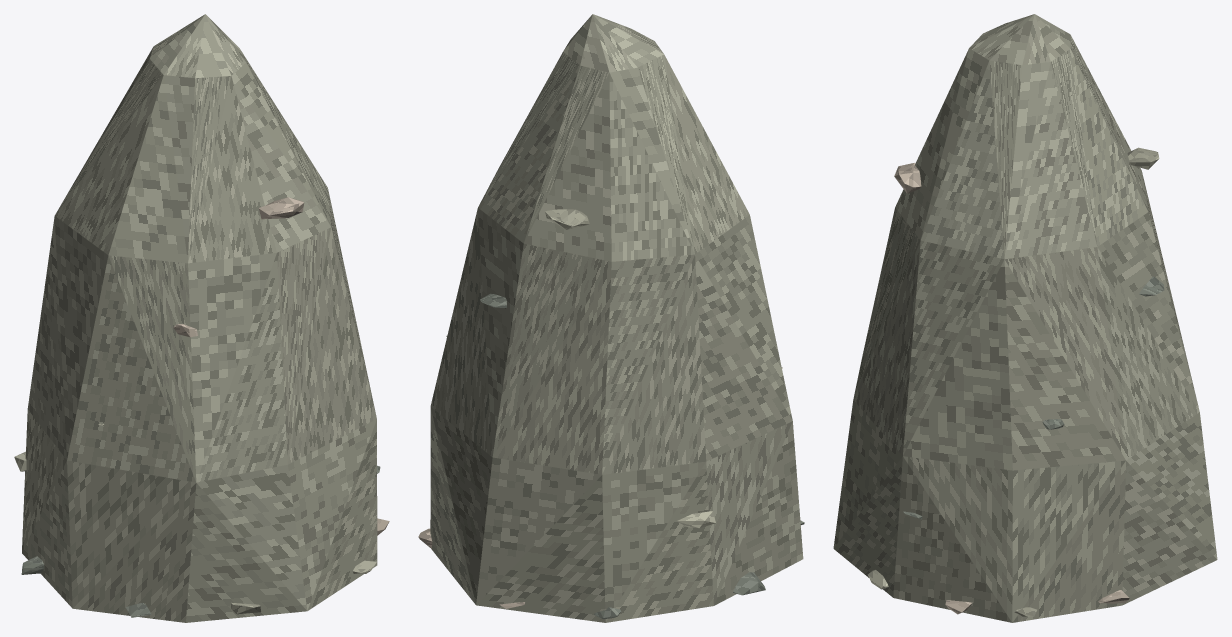
File: f_pebble_mound_mid.glb
3 views of the same model, side by side, from view 1: azimuth 30°, elevation 25°; view 2: azimuth 150°, elevation 25°; view 3: azimuth 270°, elevation 25° (orthographic).
Parts seen in each view (by area): view 1: block_heaped-pebble, block_loose-pebble; view 2: block_heaped-pebble, block_loose-pebble; view 3: block_heaped-pebble, block_loose-pebble.
Boxes of the visible parts, box(x1,y1,x2,y2) form: block_heaped-pebble: box(22, 14, 377, 622); block_loose-pebble: box(259, 197, 304, 219); block_heaped-pebble: box(430, 14, 803, 622); block_loose-pebble: box(545, 209, 589, 229); block_heaped-pebble: box(833, 14, 1217, 622); block_loose-pebble: box(894, 163, 921, 193).
Size of the model in its own units: 0.8615 by 1.31 by 0.8548.
Materials: 1 (1 with a texture image).
